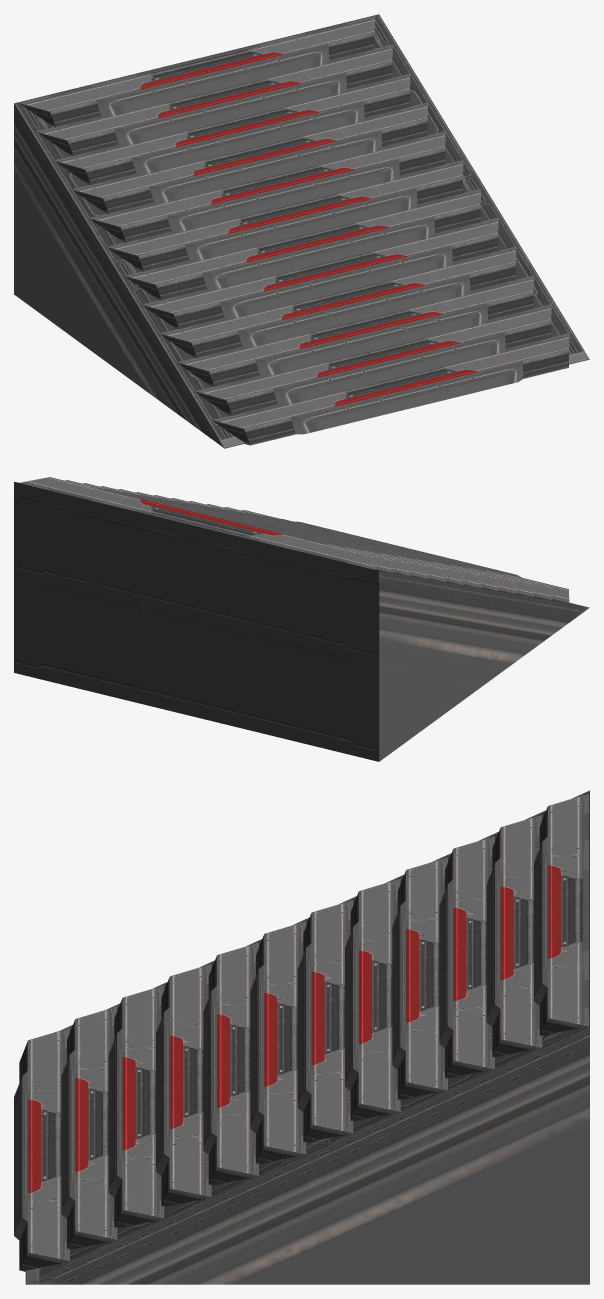
The model's file is Platform_Stairs_4Wide.gltf.
3 renders of one model, top to bottom at view 1: azimuth 30°, elevation 25°; view 2: azimuth 150°, elevation 25°; view 3: azimuth 270°, elevation 25°, orthographic. The views are drawn at different scales.
Parts seen in each view (by area): view 1: Platform_Stairs_4Wide; view 2: Platform_Stairs_4Wide; view 3: Platform_Stairs_4Wide.
Part boxes in pixels (x1=…): Platform_Stairs_4Wide: x1=14, y1=14, x2=589, y2=448; Platform_Stairs_4Wide: x1=14, y1=477, x2=589, y2=761; Platform_Stairs_4Wide: x1=14, y1=790, x2=589, y2=1284.
Size of the model in its own units: 4 by 2.01 by 4.08.
Materials: 2 (2 with a texture image).
